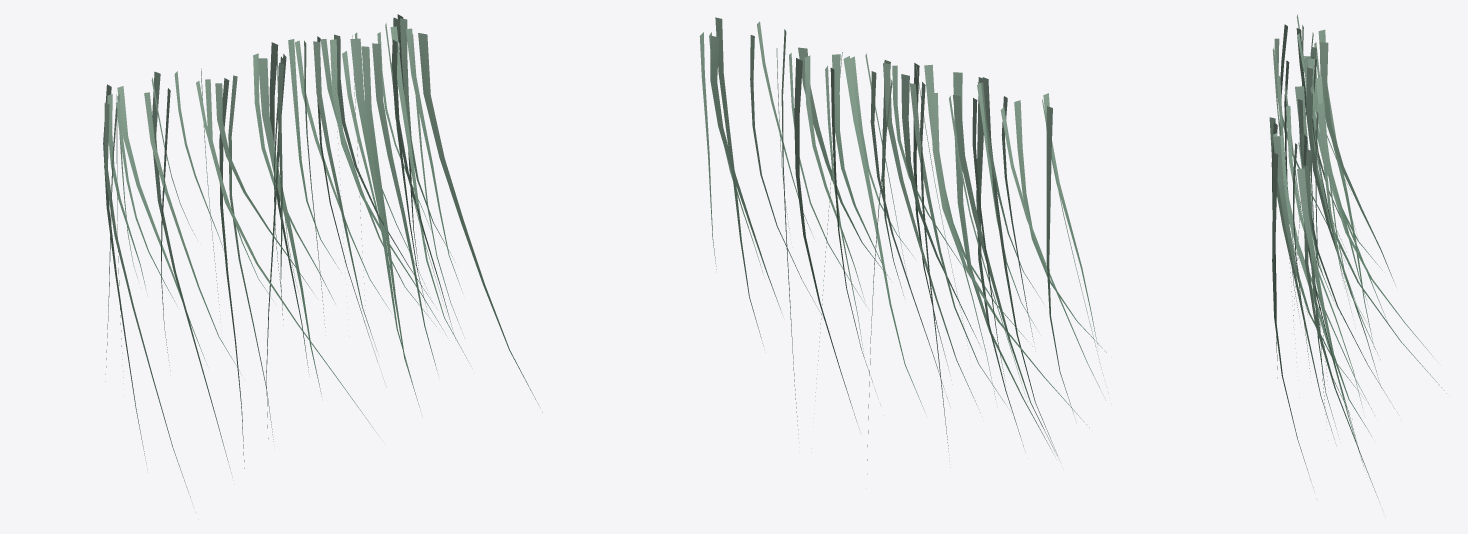
Rendered from mesh-plant-038-mist-veil_LOD1.glb.
3 renders of one model, left to right at view 1: azimuth 30°, elevation 25°; view 2: azimuth 150°, elevation 25°; view 3: azimuth 270°, elevation 25°, orthographic. The views are drawn at different scales.
Visible parts, largest first — view 1: geometry_0; view 2: geometry_0; view 3: geometry_0.
Boxes of the visible parts, <box> form: geometry_0: <box>103,14,542,497</box>; geometry_0: <box>699,17,1106,474</box>; geometry_0: <box>1269,14,1446,502</box>.
Size of the model in its own units: 3.08 by 2.36 by 1.98.
